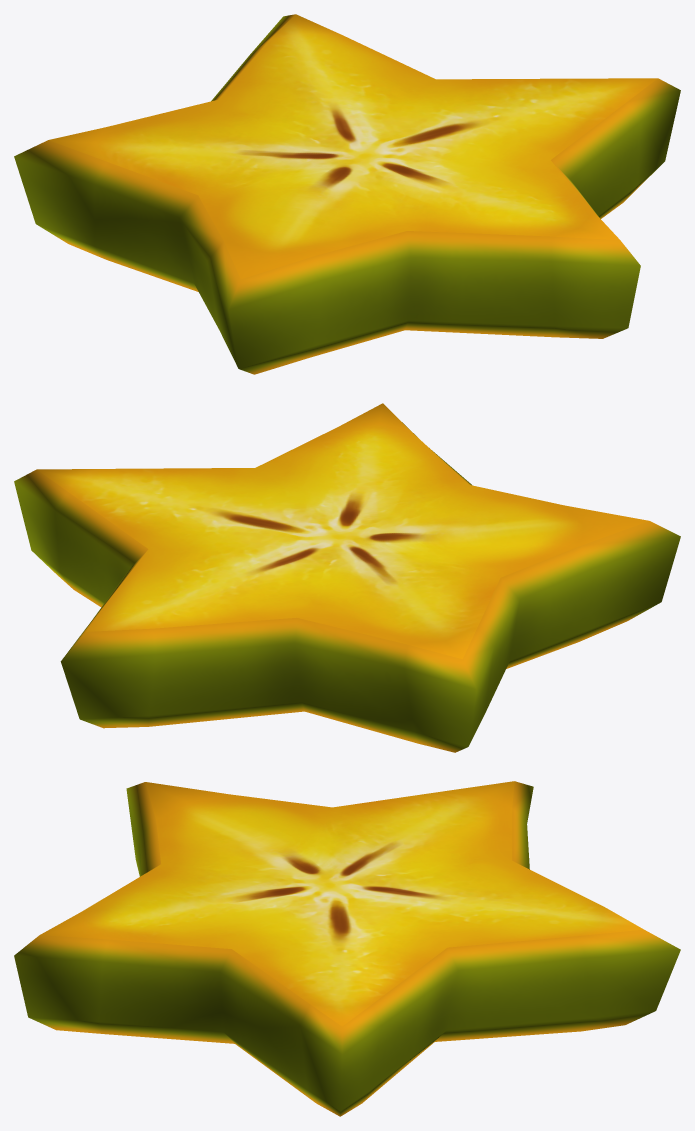
File: Starfruit_Slice.fbx
The picture shows the model from 3 angles, top to bottom: view 1: azimuth 30°, elevation 25°; view 2: azimuth 150°, elevation 25°; view 3: azimuth 270°, elevation 25°; orthographic projection. The views are drawn at different scales.
Visible parts, largest first — view 1: Starfruit_Slice; view 2: Starfruit_Slice; view 3: Starfruit_Slice.
Boxes of the visible parts, x1,y1,x2,y2 form: Starfruit_Slice: [14, 14, 680, 374]; Starfruit_Slice: [14, 403, 680, 752]; Starfruit_Slice: [14, 781, 680, 1116].
Bounding box in the file's own units: 37.89 × 6.55 × 39.87.
1 material, 1 textured.
